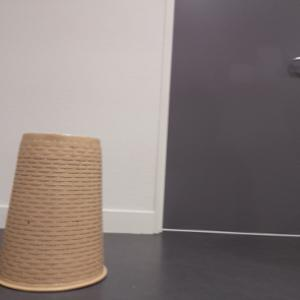medium: (1, 130, 110, 290)
